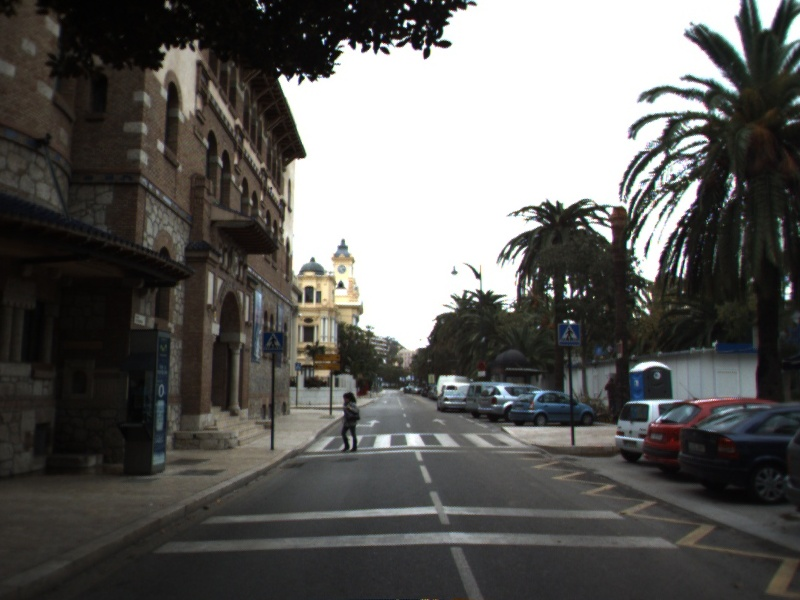STRAIGHT: (430, 416, 450, 427)
STRAIGHT_LEFT: (354, 418, 383, 430)
